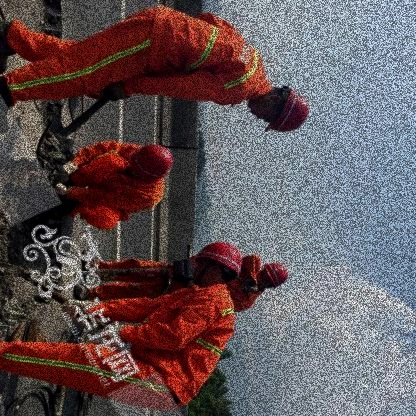red: (264, 84, 313, 136), (190, 238, 244, 282), (130, 140, 175, 184), (260, 260, 289, 293)
vest: (129, 279, 238, 408), (140, 5, 272, 105)
